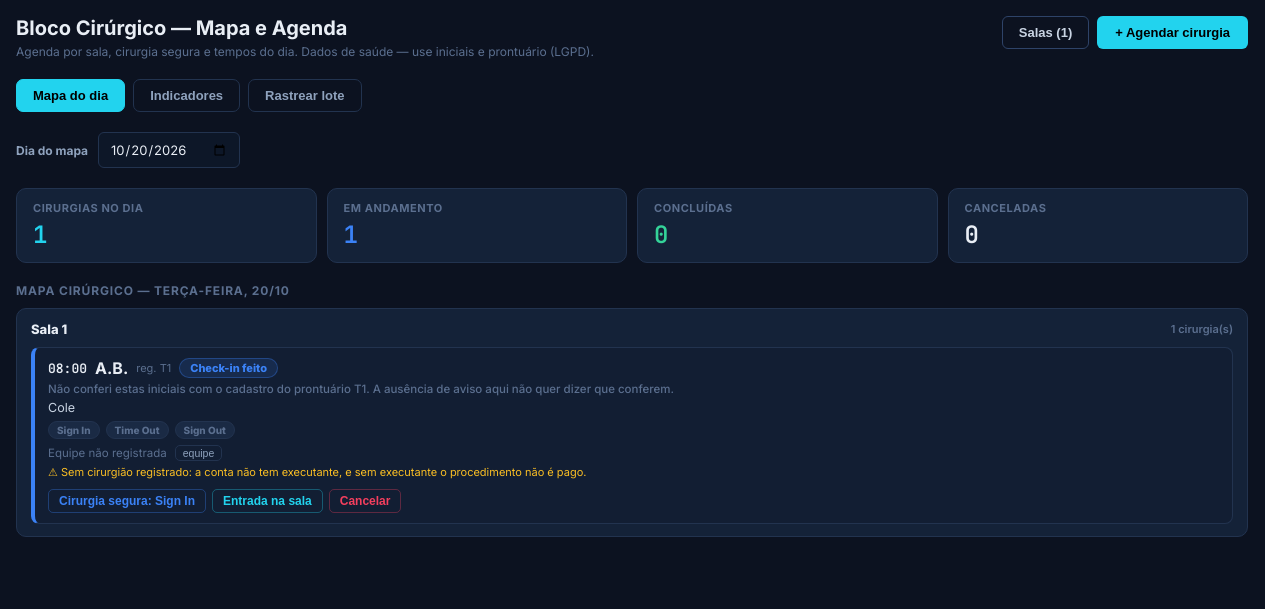
Test: 🔴 seguir sem conferir registra o pulo ANTES de avançar › 🔴 motivo curto: recusa, e a cirurgia NÃO entra em sala
Click the button "Entrada na sala" at point(267, 501), box [212,489,323,513]
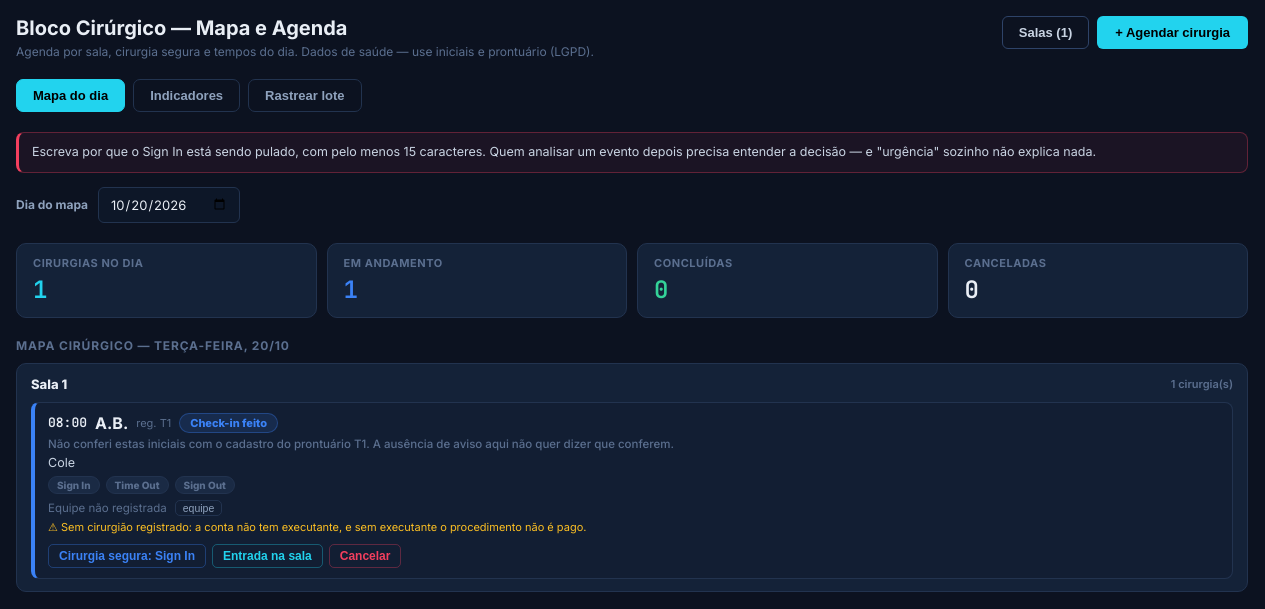
Expected: the text "pelo menos 15 caracteres" is shown, [32,144,1096,159]
